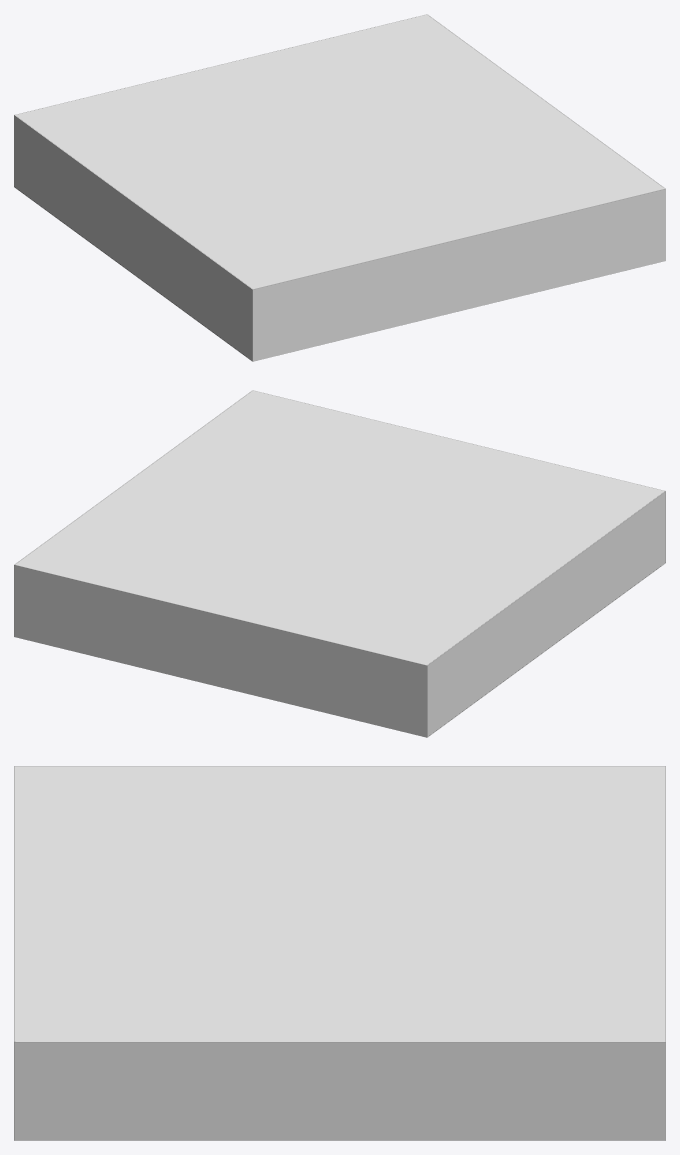
The model's file is Floor_Inter_Normal_04.FBX.
The picture shows the model from 3 angles, top to bottom: view 1: azimuth 30°, elevation 25°; view 2: azimuth 150°, elevation 25°; view 3: azimuth 270°, elevation 25°; orthographic projection. The views are drawn at different scales.
Parts seen in each view (by area): view 1: Floor_Inter_Normal_04; view 2: Floor_Inter_Normal_04; view 3: Floor_Inter_Normal_04.
Boxes of the visible parts, left/top/right/bottom form: Floor_Inter_Normal_04: left=14, top=14, right=665, bottom=361; Floor_Inter_Normal_04: left=14, top=390, right=665, bottom=737; Floor_Inter_Normal_04: left=14, top=766, right=665, bottom=1140.
Size of the model in its own units: 12 by 2 by 12.
